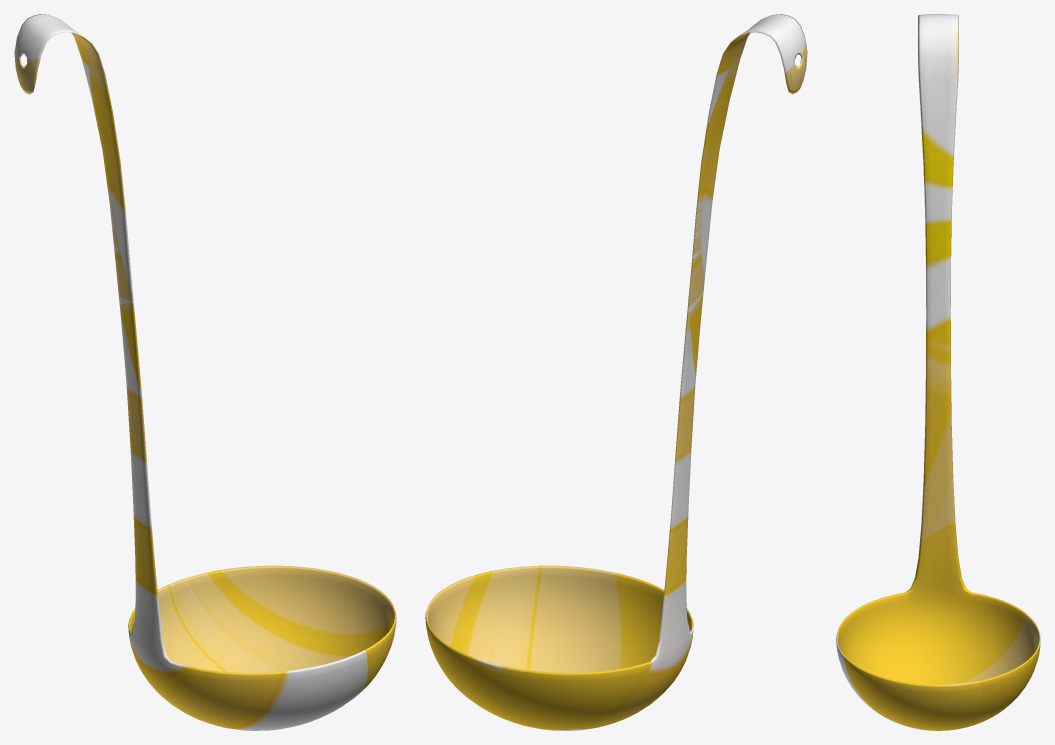
The model's file is ladle-Unity.fbx.
The picture shows the model from 3 angles, left to right: view 1: azimuth 30°, elevation 25°; view 2: azimuth 150°, elevation 25°; view 3: azimuth 270°, elevation 25°; orthographic projection. The views are drawn at different scales.
Parts seen in each view (by area): view 1: Ladle_low_Material #25_0; view 2: Ladle_low_Material #25_0; view 3: Ladle_low_Material #25_0.
Boxes of the visible parts, x1,y1,x2,y2 form: Ladle_low_Material #25_0: (14,14,396,730); Ladle_low_Material #25_0: (425,14,807,730); Ladle_low_Material #25_0: (836,14,1040,730).
Size of the model in its own units: 4297 by 8541 by 2580.
